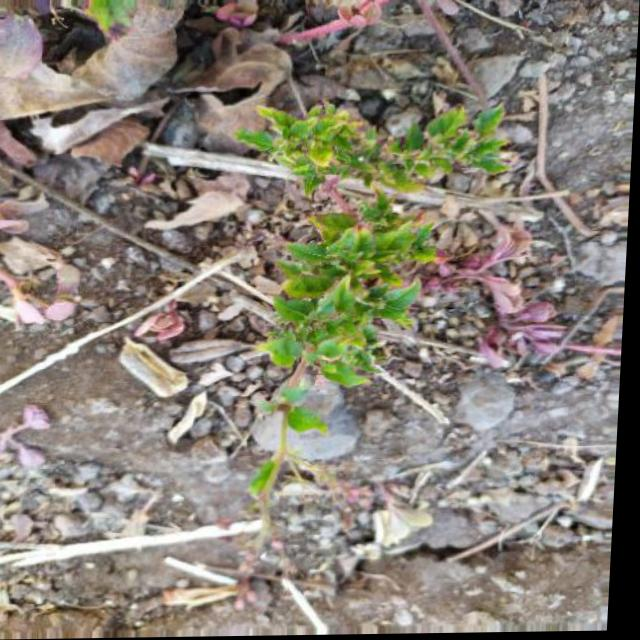weed: (224, 104, 516, 506)
